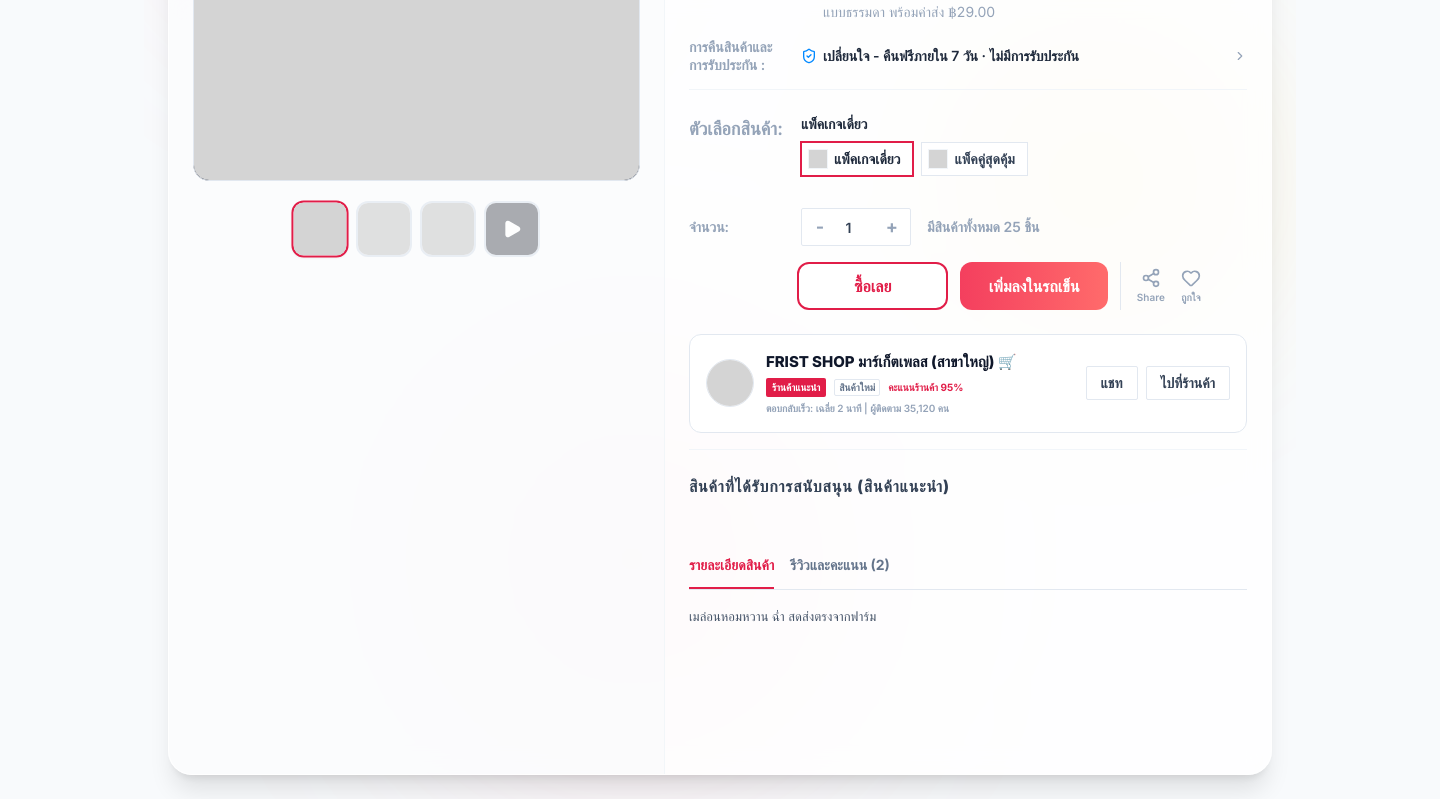
Test: ProductDetailPage - Product Reviews & Ratings System › allows upvoting a review via helpful thumbs up button
(page scrolled)
Click the button "รีวิวและคะแนน (2)" at (840, 571), box [790, 554, 890, 588]
(page scrolled)
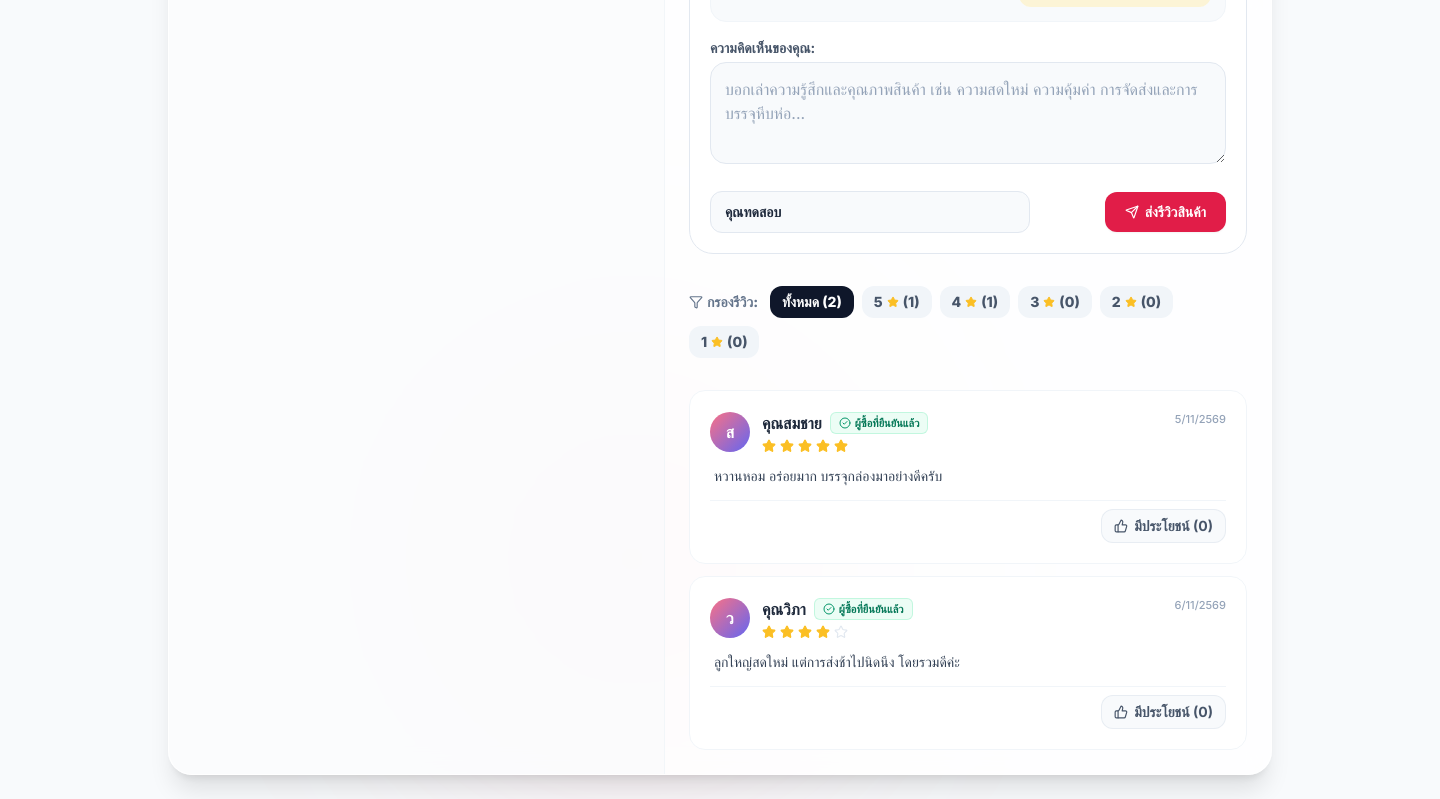
Check: the text "มีประโยชน์ (0)" below "หวานหอม อร่อยมาก บรรจุกล่องมาอย่างดีครับ" is shown, box [1134, 516, 1213, 536]
Click the button "มีประโยชน์ (0)" below "หวานหอม อร่อยมาก บรรจุกล่องมาอย่างดีครับ" at (1164, 526), box [1101, 509, 1226, 543]
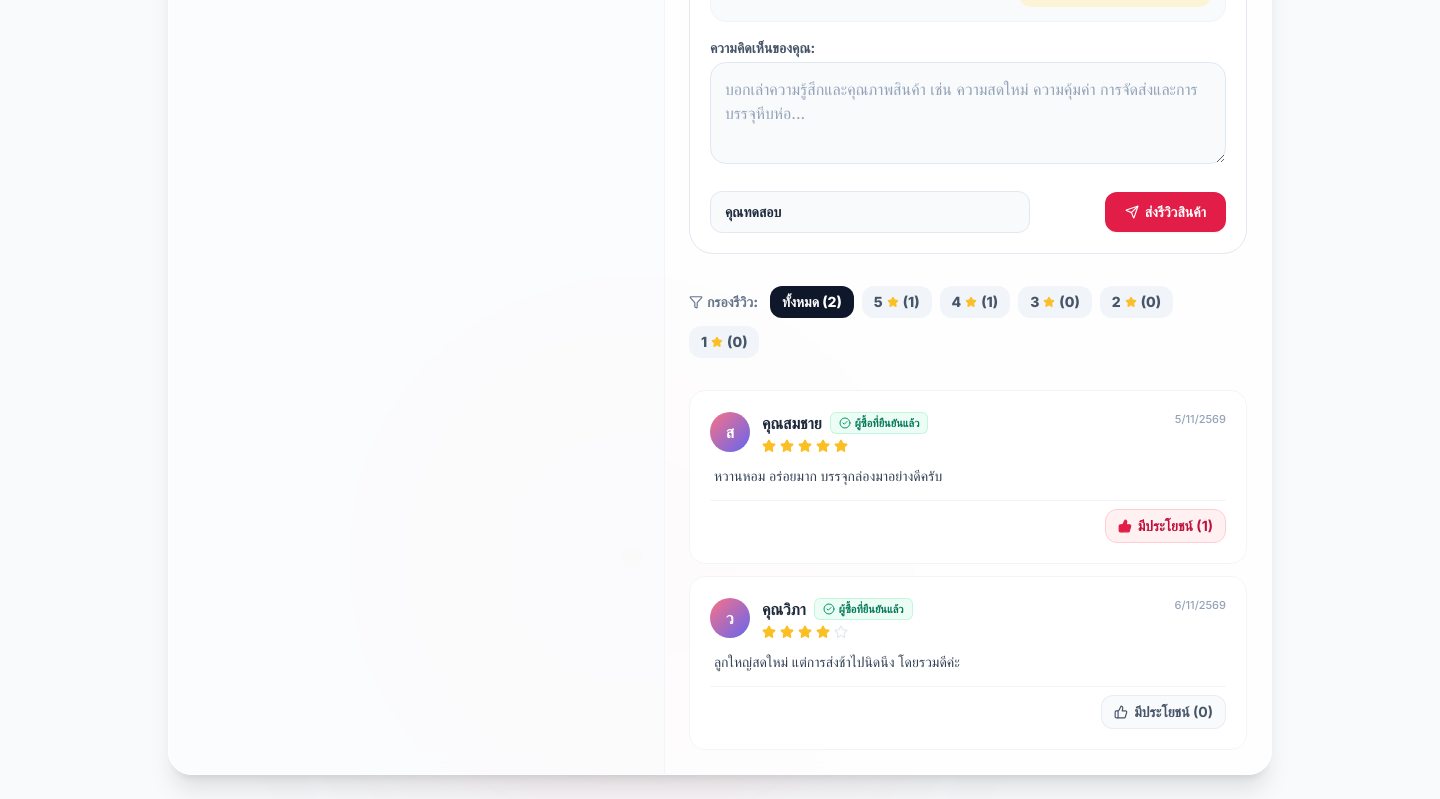
Check: the text "มีประโยชน์ (1)" is shown, box [1138, 516, 1213, 536]
